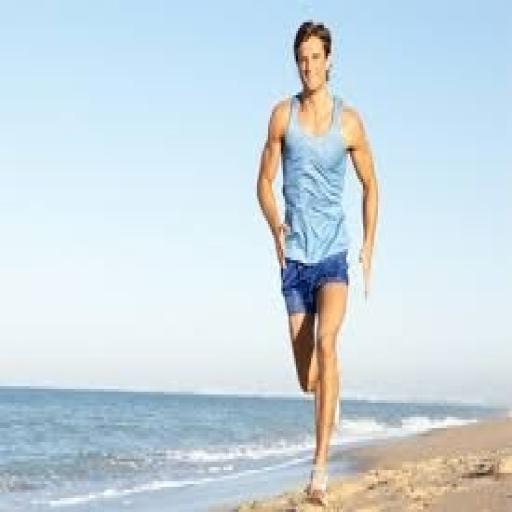running: (253, 17, 382, 506)
